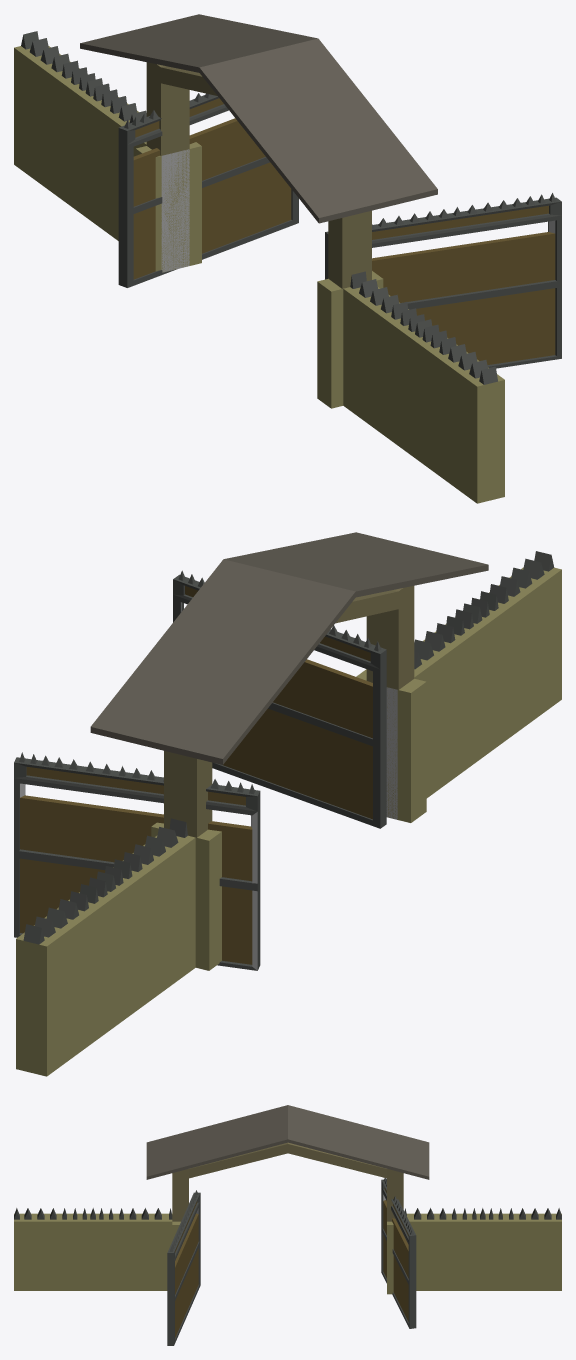
File: Entrada.fbx
The picture shows the model from 3 angles, top to bottom: view 1: azimuth 30°, elevation 25°; view 2: azimuth 150°, elevation 25°; view 3: azimuth 270°, elevation 25°; orthographic projection. The views are drawn at different scales.
Parts seen in each view (by area): view 1: muros, puertas; view 2: muros, puertas; view 3: muros, puertas.
Boxes of the visible parts, x1=… form: muros: x1=14, y1=14, x2=504, y2=503; puertas: x1=118, y1=93, x2=561, y2=368; muros: x1=16, y1=532, x2=561, y2=1076; puertas: x1=14, y1=570, x2=386, y2=970; muros: x1=14, y1=1105, x2=561, y2=1294; puertas: x1=167, y1=1178, x2=416, y2=1345.
Bounding box in the file's own units: 16.7 × 17.16 × 51.42.
